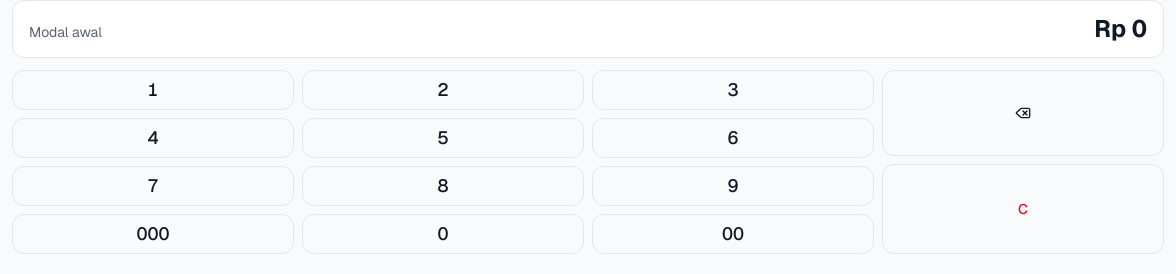
Scenario: MoneyKeypad › builds an amount from digits and the 000 shortcut
This screenshot has width=1176, height=274.
Click the button "5". click: (443, 138)
box: 302,118 -> 584,158
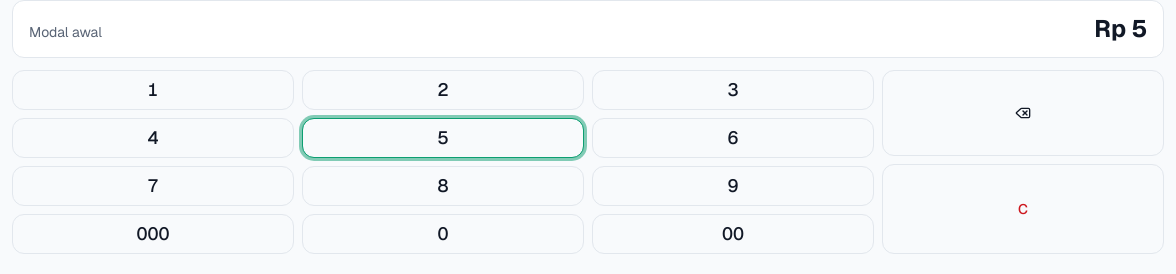
Click the button "0". click: (443, 234)
box: 302,214 -> 584,254
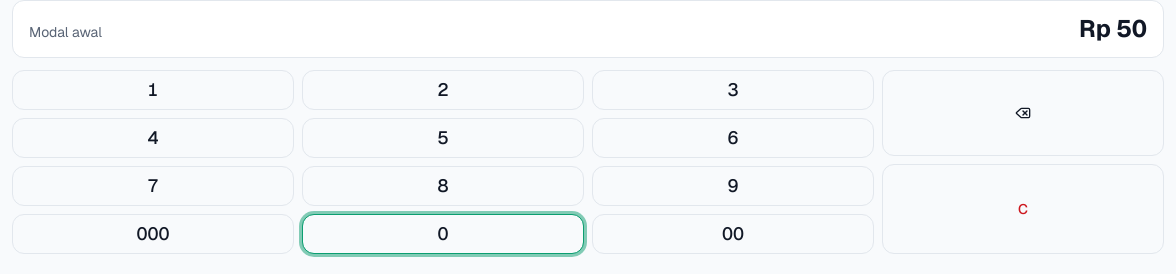
Click the button "000". click: (153, 234)
box: 12,214 -> 294,254
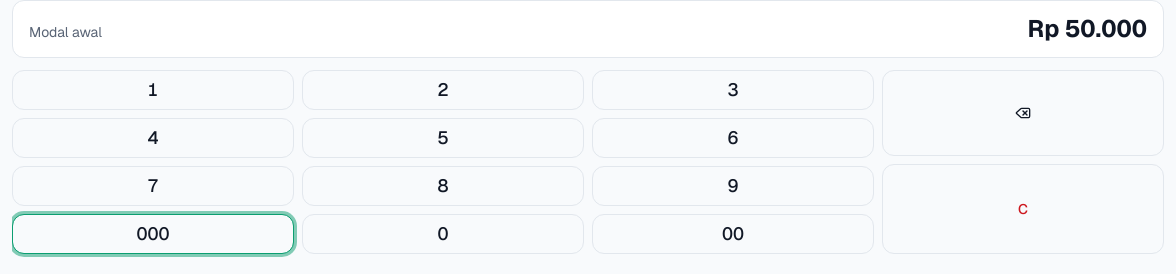
Now the message named "Modal awal" reads "Rp 50.000", box 1028,13 -> 1147,44
